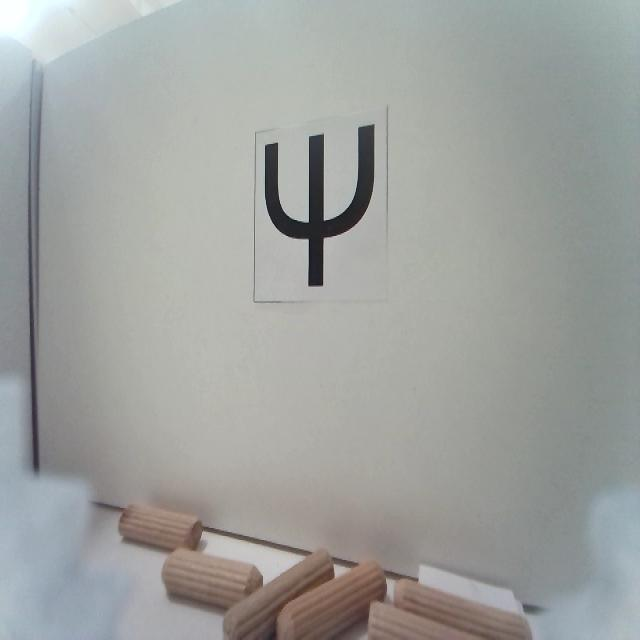nedoF: (266, 125, 375, 289)
